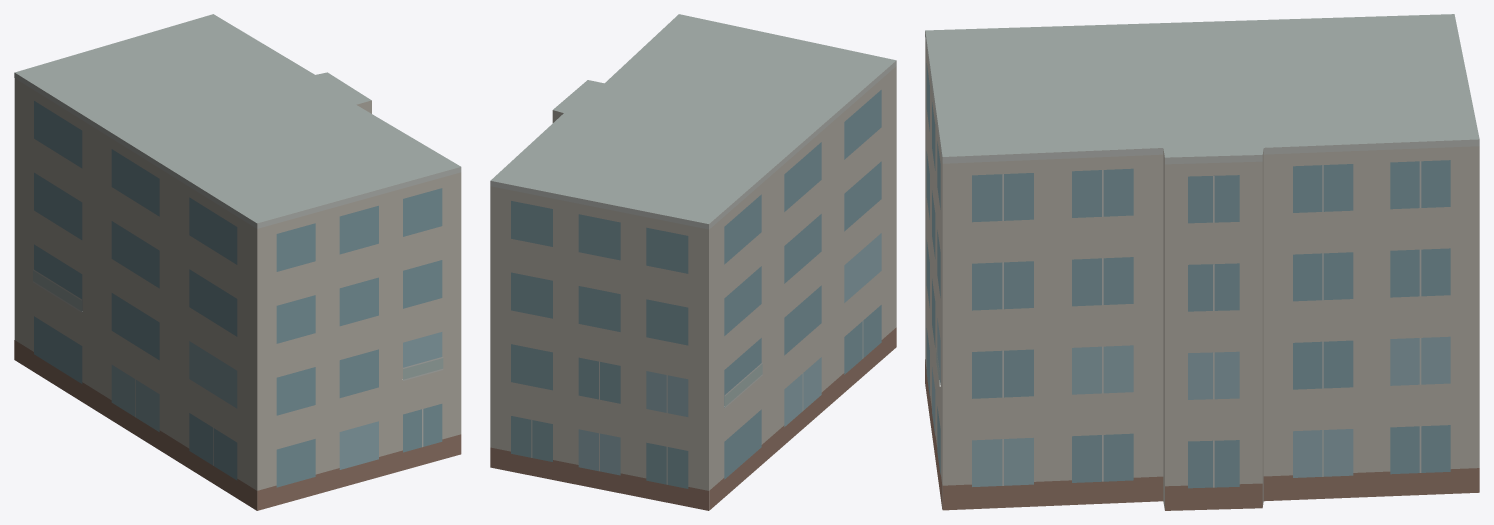
The model's file is survey-upis-32739395.glb.
3 renders of one model, left to right at view 1: azimuth 30°, elevation 25°; view 2: azimuth 150°, elevation 25°; view 3: azimuth 270°, elevation 25°, orthographic. The views are drawn at different scales.
Visible parts, largest first — view 1: survey-upis-32739395.tmp; view 2: survey-upis-32739395.tmp; view 3: survey-upis-32739395.tmp.
Boxes of the visible parts, x1,y1,x2,y2 form: survey-upis-32739395.tmp: (14, 14, 461, 510); survey-upis-32739395.tmp: (490, 14, 896, 510); survey-upis-32739395.tmp: (925, 14, 1479, 510).
Bounding box in the file's own units: 11.17 × 12.8 × 18.22.
